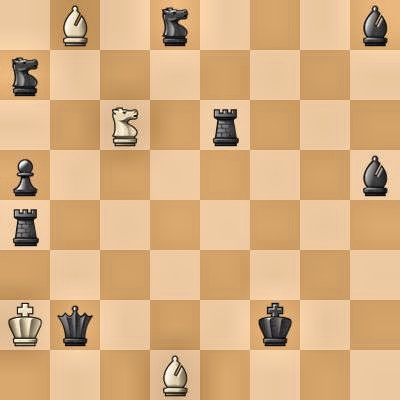black-bishop: (350, 0, 400, 50), (350, 150, 400, 200)
black-king: (250, 300, 300, 350)
black-knight: (150, 0, 200, 50), (0, 50, 50, 100)
black-pawn: (0, 150, 50, 200)
black-queen: (50, 300, 100, 350)
black-rook: (200, 100, 250, 150), (0, 200, 50, 250)
white-bishop: (50, 0, 100, 50), (150, 350, 200, 400)
white-king: (0, 300, 50, 350)
white-knight: (100, 100, 150, 150)
